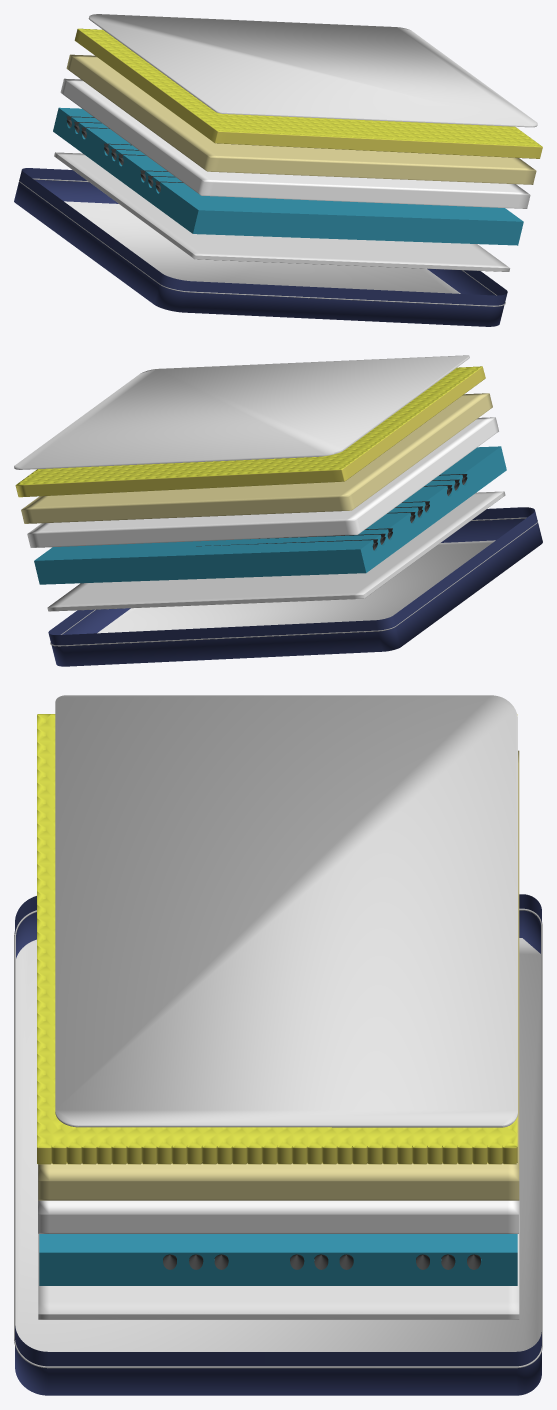
The model's file is Luxe_Organic_Posture_Pedic.glb.
3 renders of one model, top to bottom at view 1: azimuth 30°, elevation 25°; view 2: azimuth 150°, elevation 25°; view 3: azimuth 270°, elevation 25°, orthographic. The views are drawn at different scales.
Parts seen in each view (by area): view 1: Cube.135, Cube.137, Cube.129, Cube.139, Cube.134, Cube.138, Cube.136; view 2: Cube.135, Cube.137, Cube.129, Cube.134, Cube.139, Cube.138, Cube.136; view 3: Cube.135, Cube.137, Cube.139, Cube.129, Cube.134, Cube.136, Cube.138.
Part boxes in pixels (x1,y1,x2,y2): Cube.135: (88, 14, 537, 127); Cube.137: (14, 168, 507, 326); Cube.129: (53, 107, 523, 245); Cube.139: (74, 28, 542, 158); Cube.134: (66, 54, 536, 184); Cube.138: (60, 78, 530, 208); Cube.136: (54, 152, 510, 271); Cube.135: (14, 355, 469, 469); Cube.137: (48, 507, 542, 666); Cube.129: (34, 446, 506, 584); Cube.134: (21, 393, 492, 523); Cube.139: (15, 366, 485, 497); Cube.138: (27, 417, 498, 547); Cube.136: (47, 491, 505, 611); Cube.135: (55, 695, 517, 1127); Cube.137: (14, 894, 542, 1395); Cube.139: (37, 714, 517, 1164); Cube.129: (39, 1234, 517, 1285); Cube.134: (38, 750, 519, 1200); Cube.136: (38, 1201, 519, 1319); Cube.138: (38, 1164, 518, 1233).
Size of the model in its own units: 16.06 by 10.77 by 11.01.
Materials: 12 (1 with a texture image).
